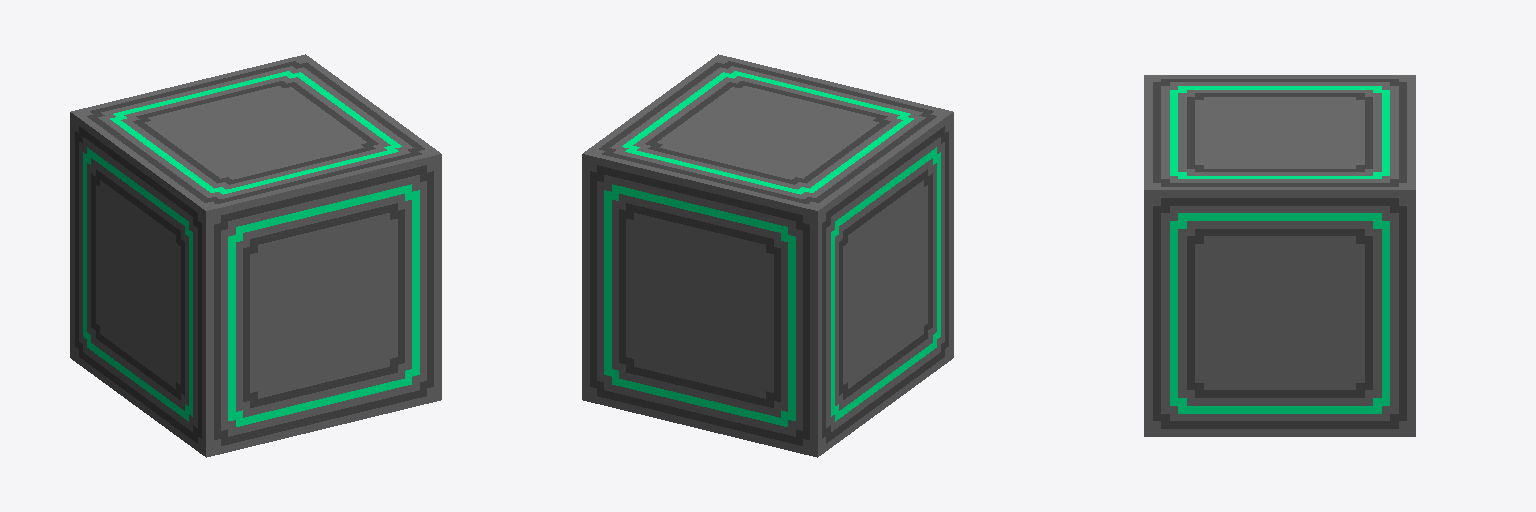
3 renders of one model, left to right at view 1: azimuth 30°, elevation 25°; view 2: azimuth 150°, elevation 25°; view 3: azimuth 270°, elevation 25°, orthographic.
Visible parts, largest first — view 1: Cube; view 2: Cube; view 3: Cube.
Part boxes in pixels (left/top/right/bottom): Cube: left=70, top=54, right=441, bottom=457; Cube: left=582, top=54, right=953, bottom=457; Cube: left=1144, top=75, right=1415, bottom=436.
Bounding box in the file's own units: 2 × 2 × 2.
Materials: 1 (1 with a texture image).